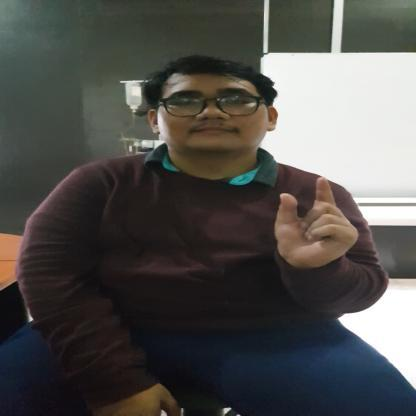U: (272, 176, 360, 268)
